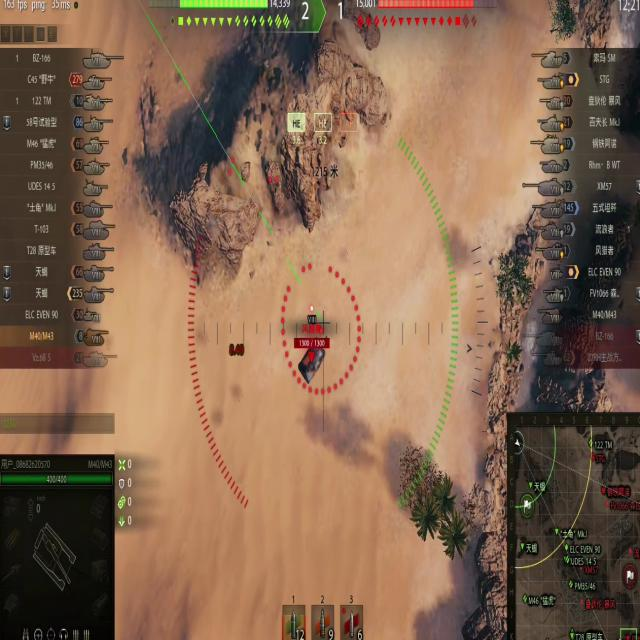tank: (292, 327, 334, 382)
